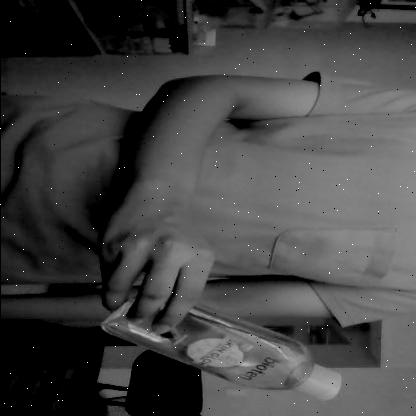Plastic Bottle: (98, 284, 355, 403)
